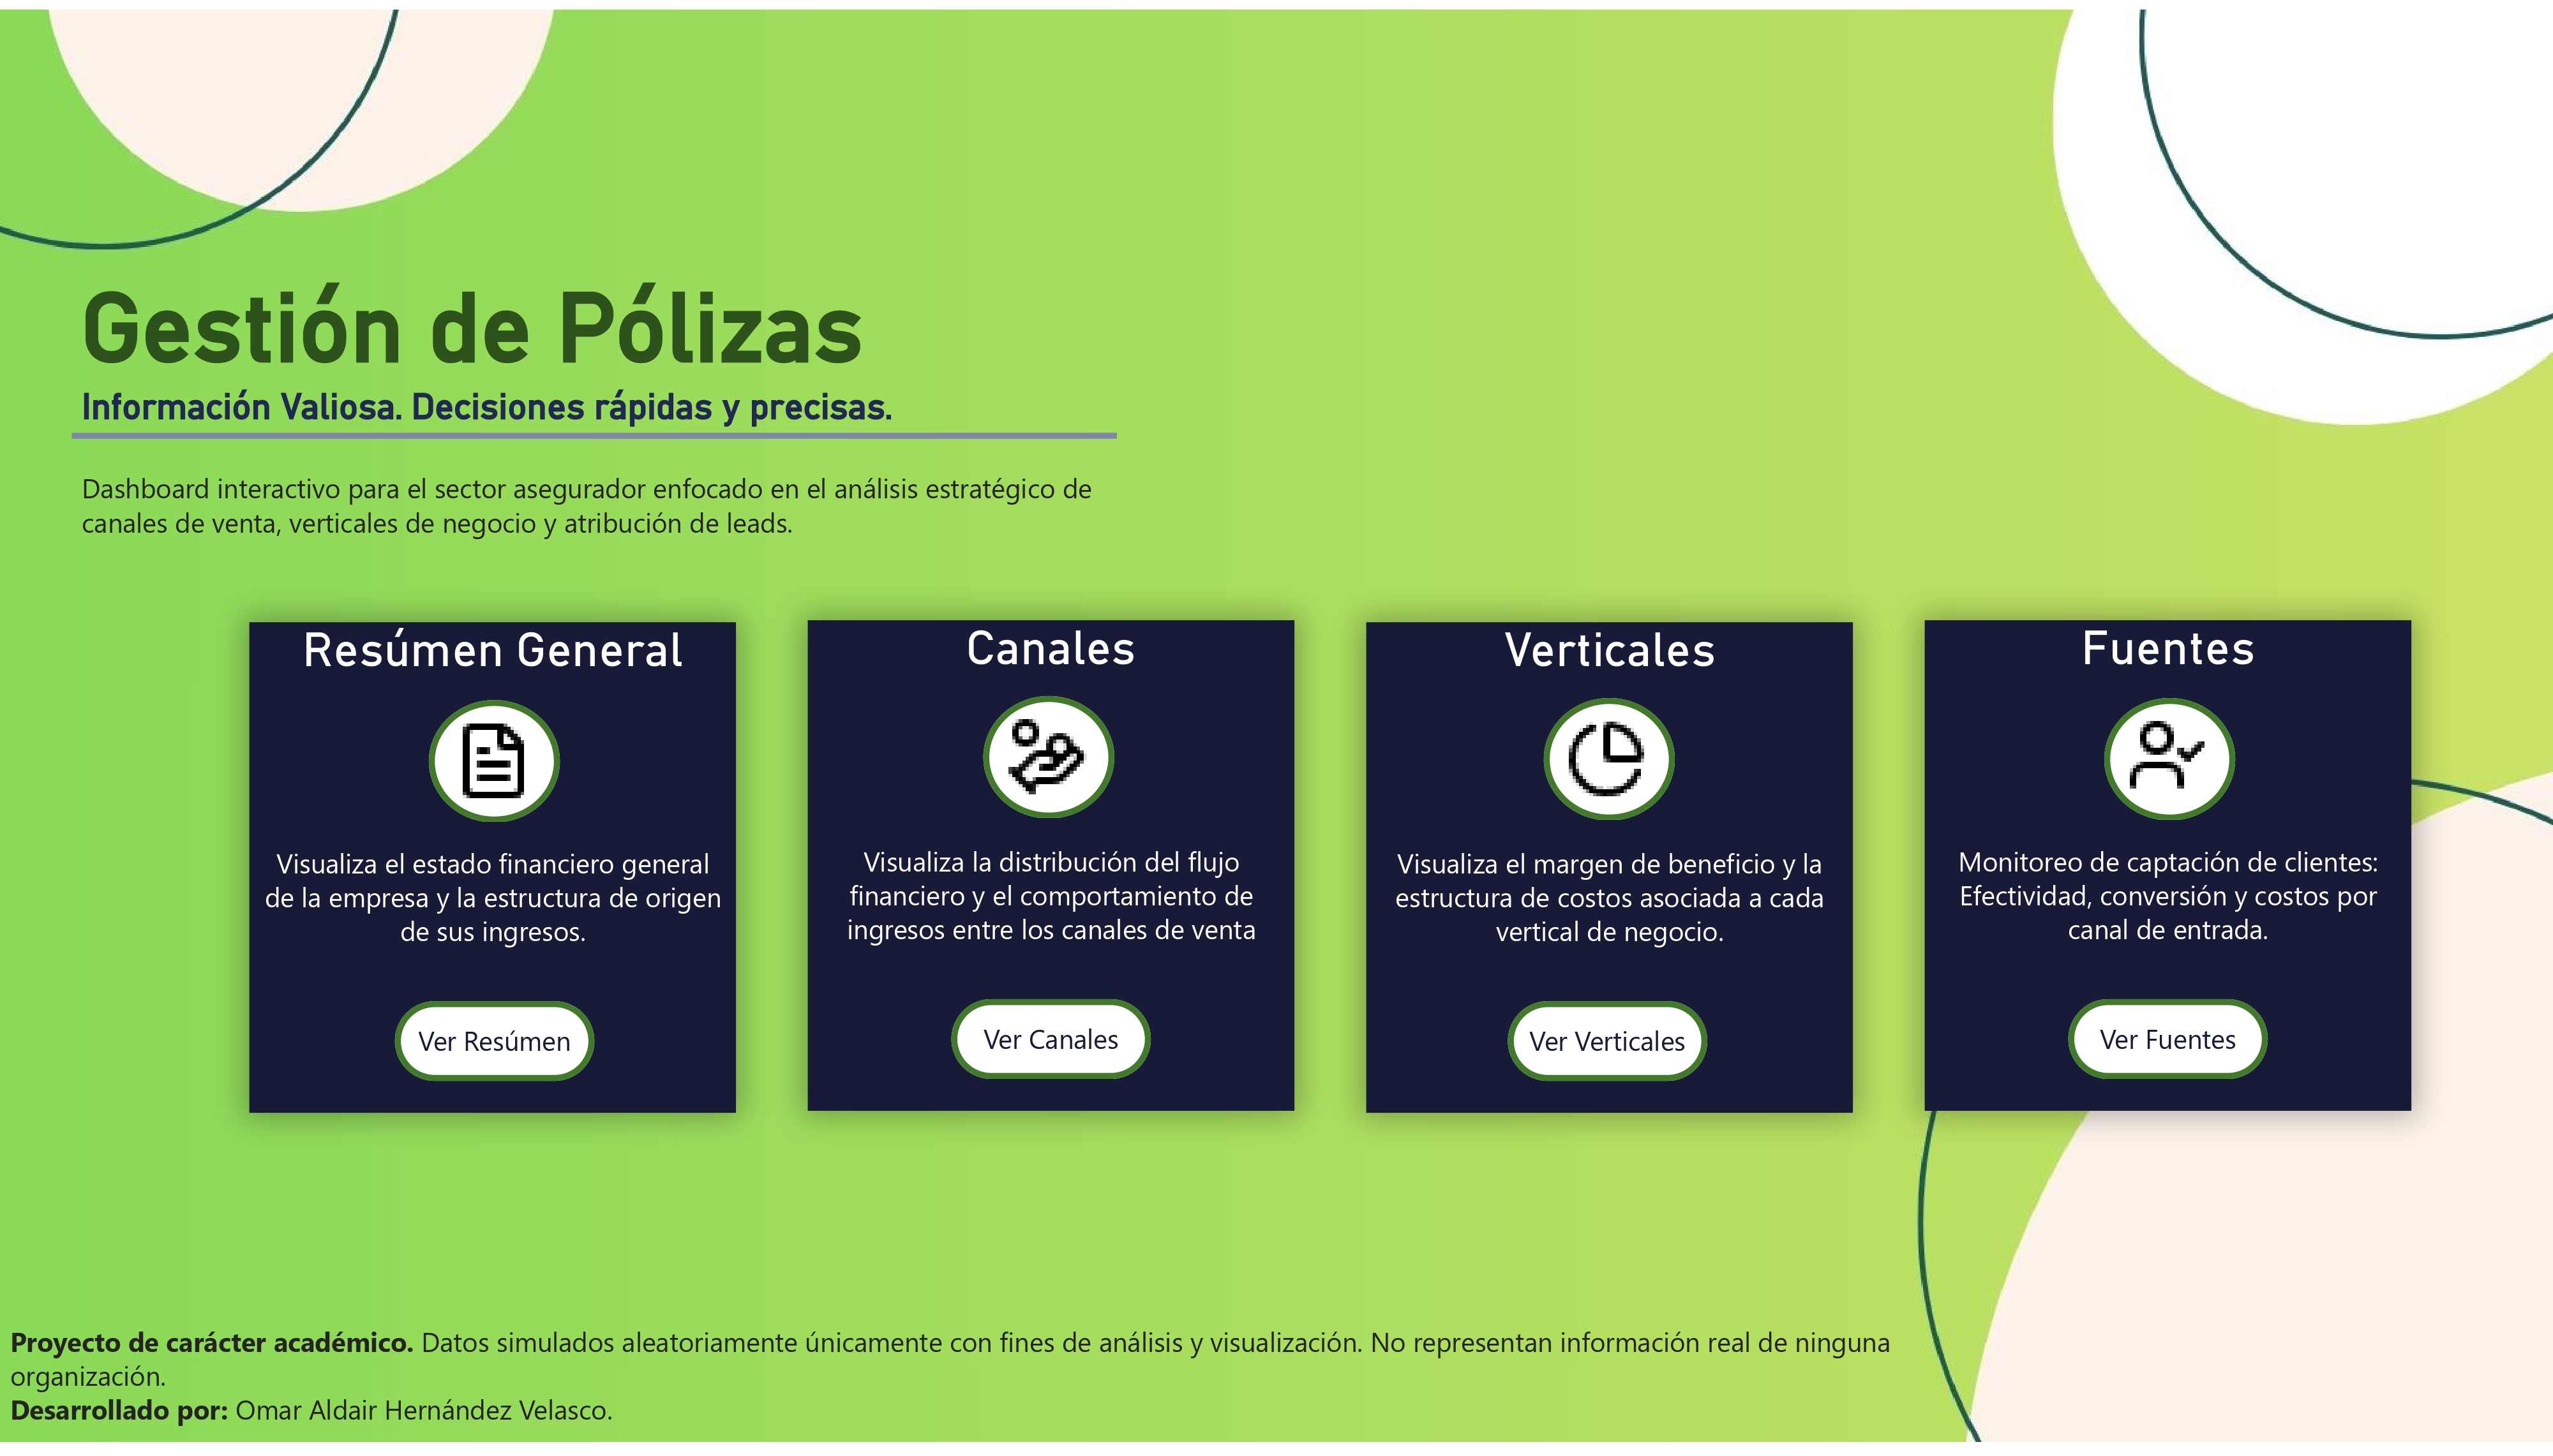

Layout of this report page (visuals, bound fields, positions):
{"tool":"powerbi","page":{"name":"Inicio","canvas":[1280,720],"ordinal":0},"visuals":[{"type":"textbox","title":"Gestión de Pólizas","box":[35.7,131.4,524.3,151.4],"z":0},{"type":"textbox","title":"Resúmen General","box":[125.1,307.1,244.3,245.7],"z":1000},{"type":"shape","box":[215.1,345.7,65.7,61.4],"z":2000},{"type":"image","box":[226.6,352.9,41.4,47.1],"z":3000},{"type":"textbox","title":"Canales","box":[404.9,305.7,244.3,245.7],"z":4000},{"type":"shape","box":[492.9,343.7,65.7,61.4],"z":5000},{"type":"image","box":[504.3,350.9,41.4,47.1],"z":6000},{"type":"textbox","title":"Verticales","box":[684.9,307.1,244.3,245.7],"z":7000},{"type":"shape","box":[774,344.9,65.7,61.4],"z":8000},{"type":"image","box":[785.4,352,41.4,47.1],"z":9000},{"type":"textbox","title":"Fuentes","box":[964.6,306,244.3,245.7],"z":10000},{"type":"shape","box":[1054.6,344.6,65.7,61.4],"z":11000},{"type":"image","box":[1066,350.3,41.4,47.1],"z":12000},{"type":"actionButton","box":[198,497.1,100,40],"z":13000},{"type":"actionButton","box":[477.1,496,100,40],"z":14000},{"type":"actionButton","box":[756,497.1,100,40],"z":15000},{"type":"actionButton","box":[1037.4,496,100,40],"z":16000},{"type":"textbox","box":[0,654.3,1011.4,65.7],"z":17000}]}

Visuals, with their boxes in screenshot pixels (x1, y1, x2, y2), scaled from the page's 1280x720 canvas onto the 2553x1456 screenshot:
"Gestión de Pólizas" textbox: locate(71, 265, 1117, 572)
"Resúmen General" textbox: locate(250, 621, 737, 1118)
shape: locate(429, 699, 560, 823)
image: locate(452, 713, 535, 809)
"Canales" textbox: locate(807, 618, 1295, 1115)
shape: locate(983, 695, 1114, 819)
image: locate(1006, 709, 1088, 805)
"Verticales" textbox: locate(1366, 621, 1853, 1118)
shape: locate(1544, 697, 1675, 822)
image: locate(1566, 712, 1649, 807)
"Fuentes" textbox: locate(1924, 619, 2411, 1116)
shape: locate(2104, 697, 2235, 821)
image: locate(2126, 708, 2209, 804)
actionButton: locate(395, 1006, 594, 1086)
actionButton: locate(952, 1003, 1151, 1084)
actionButton: locate(1508, 1006, 1707, 1086)
actionButton: locate(2069, 1003, 2268, 1084)
textbox: locate(0, 1323, 2018, 1455)
